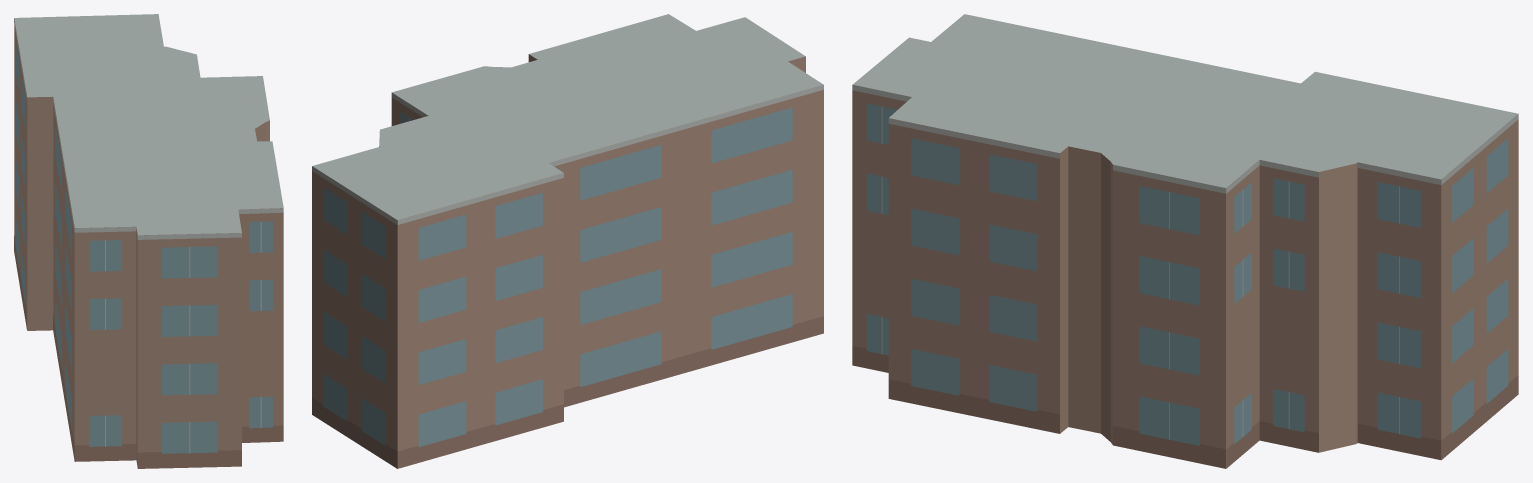
The model's file is survey-upis-32674377.glb.
3 renders of one model, left to right at view 1: azimuth 30°, elevation 25°; view 2: azimuth 150°, elevation 25°; view 3: azimuth 270°, elevation 25°, orthographic. The views are drawn at different scales.
Parts seen in each view (by area): view 1: survey-upis-32674377.tmp; view 2: survey-upis-32674377.tmp; view 3: survey-upis-32674377.tmp.
Part boxes in pixels (bbox=[...]): survey-upis-32674377.tmp: bbox=[14, 14, 283, 468]; survey-upis-32674377.tmp: bbox=[312, 14, 823, 468]; survey-upis-32674377.tmp: bbox=[852, 14, 1518, 468].
Bounding box in the file's own units: 16.24 × 12.2 × 26.24.
